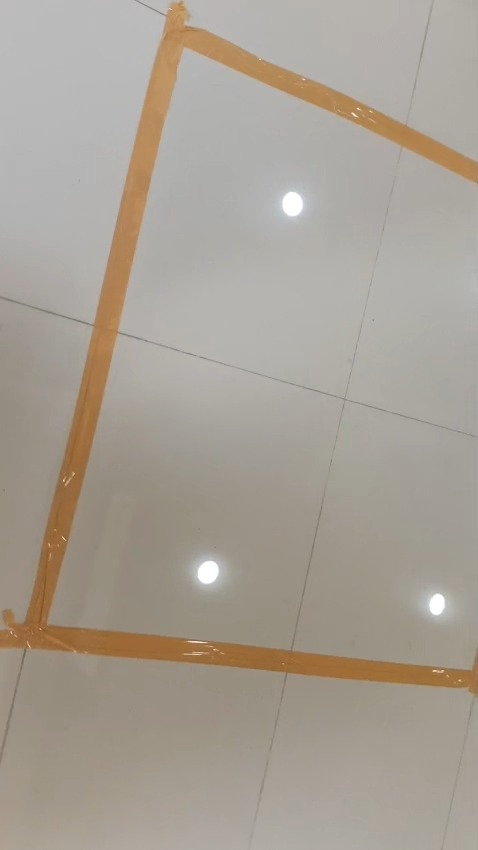floor marking: (0, 0, 477, 695)
